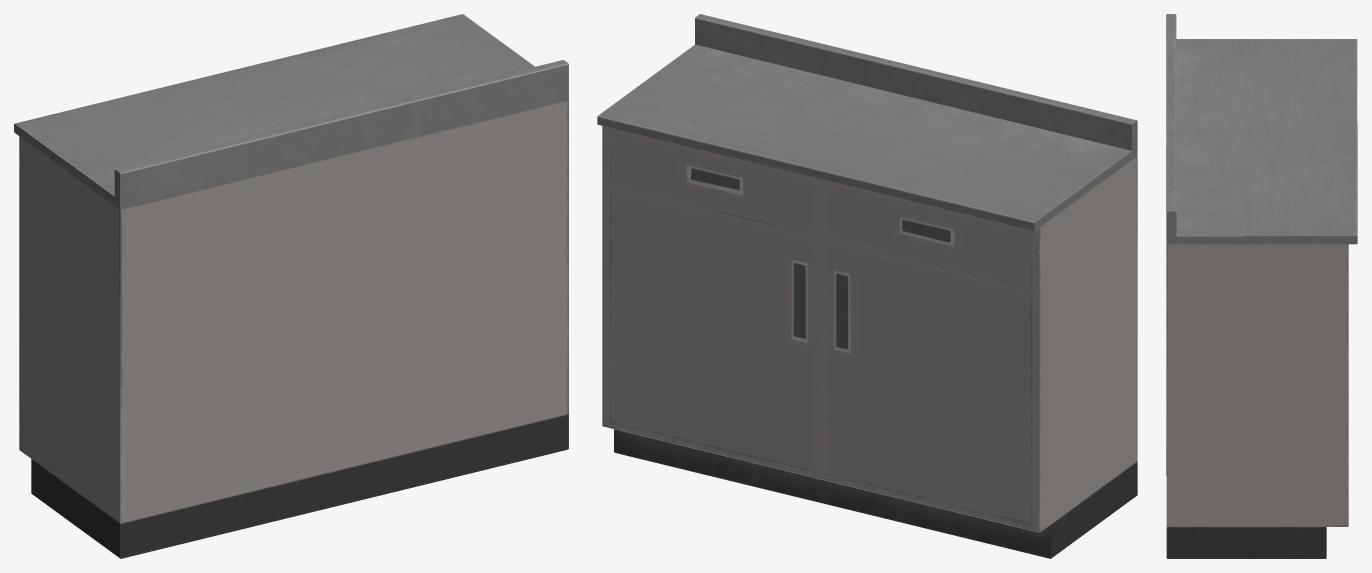
Rendered from tablaaa.fbx.
3 renders of one model, left to right at view 1: azimuth 30°, elevation 25°; view 2: azimuth 150°, elevation 25°; view 3: azimuth 270°, elevation 25°, orthographic. The views are drawn at different scales.
Visible parts, largest first — view 1: defaultMaterial.001; view 2: defaultMaterial.001; view 3: defaultMaterial.001.
Boxes of the visible parts, box(x1,y1,x2,y2) form: defaultMaterial.001: box(14, 14, 568, 558); defaultMaterial.001: box(597, 14, 1137, 558); defaultMaterial.001: box(1166, 14, 1357, 558).
Bounding box in the file's own units: 159 × 131 × 65.28.
